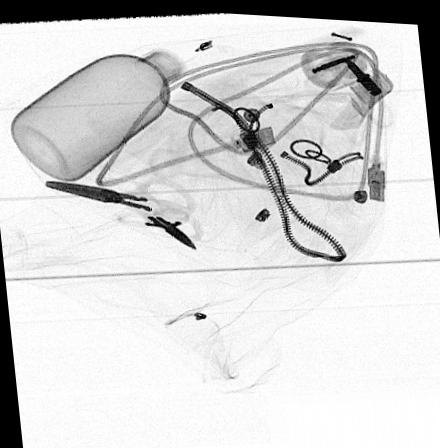Scissors: (40, 175, 155, 211), (139, 210, 197, 249)
